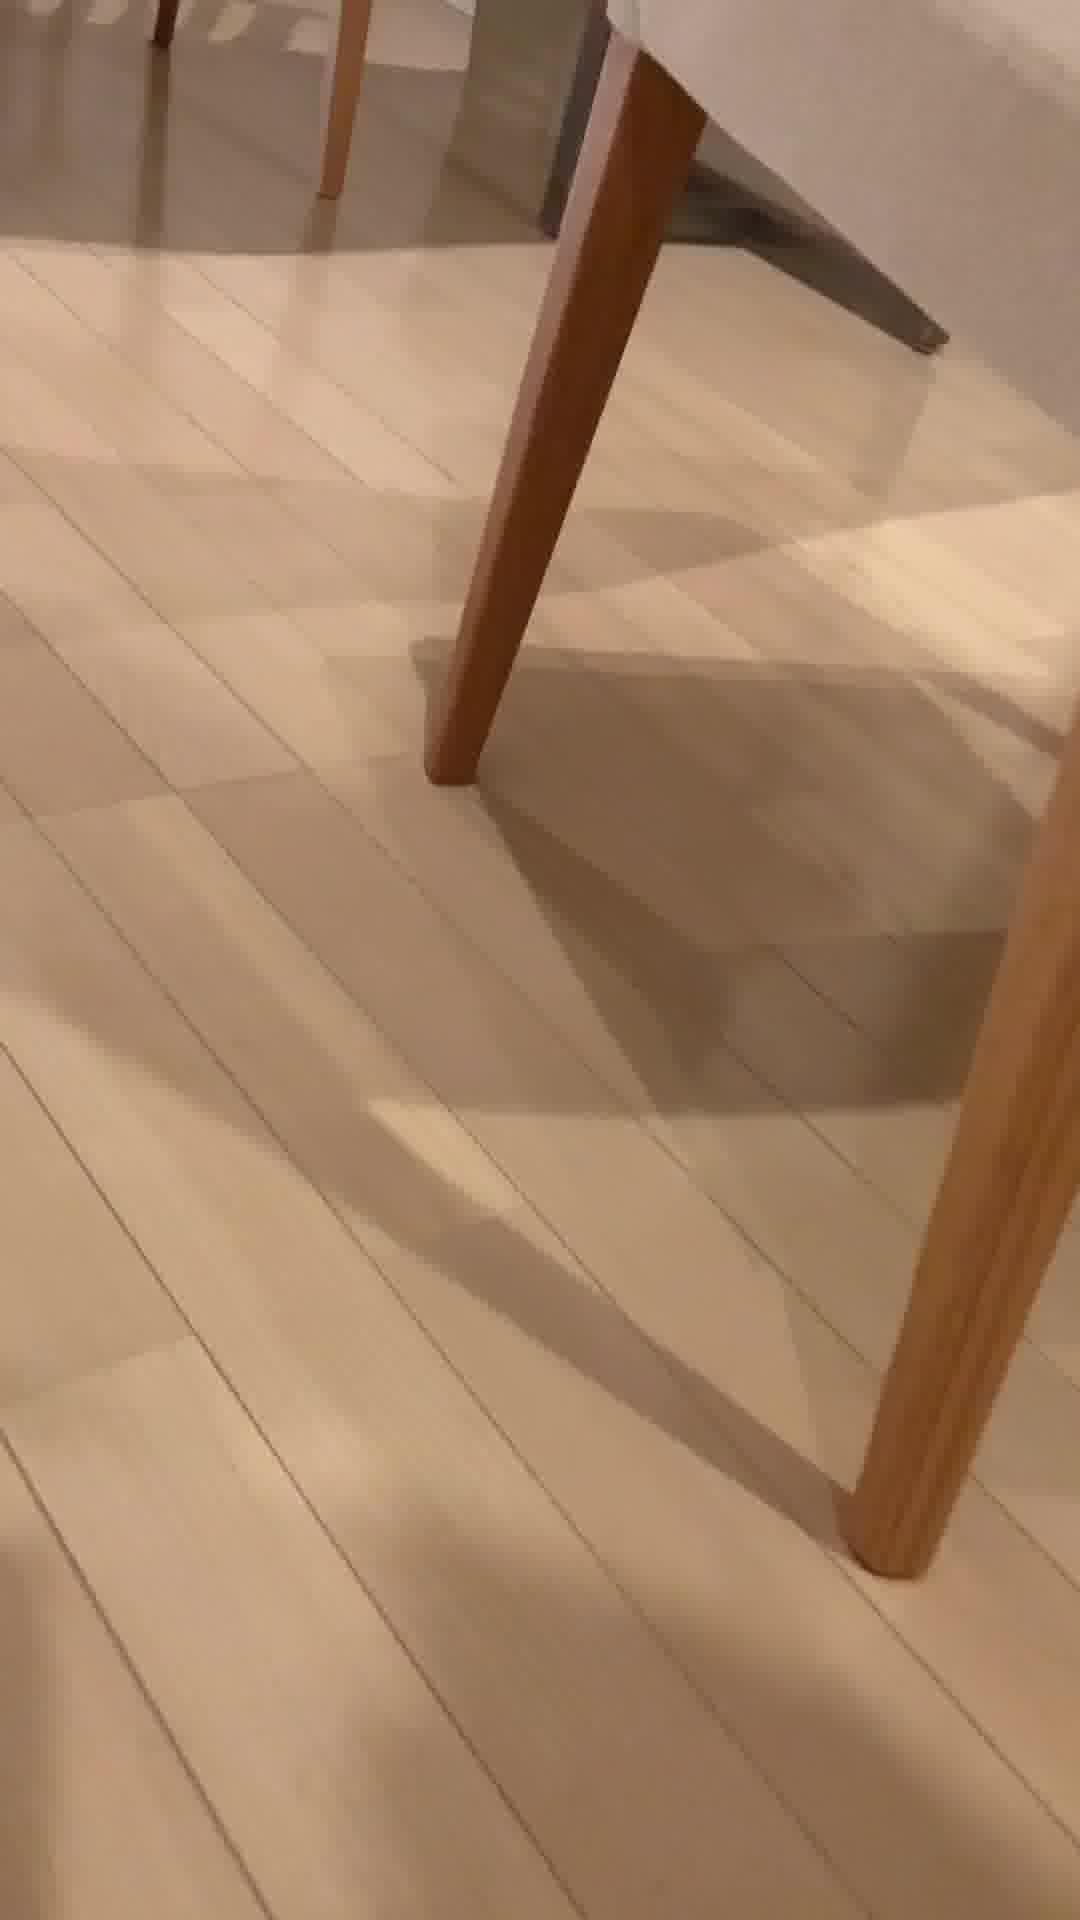takumikan-chair: (418, 0, 1080, 1586)
